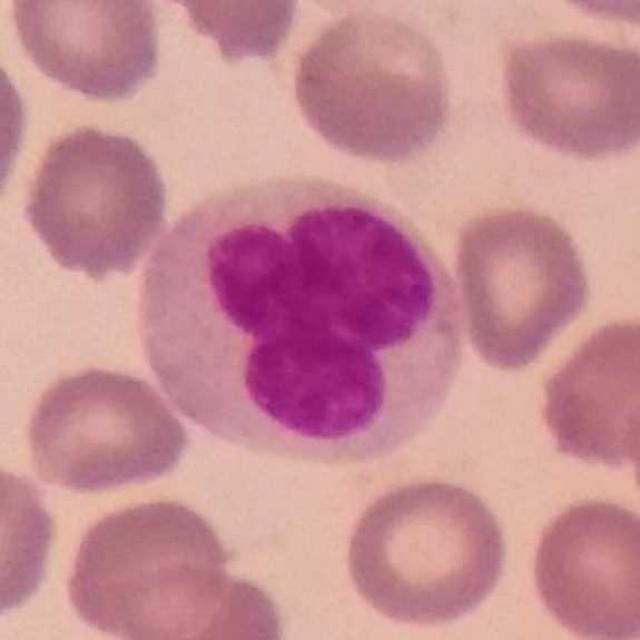mono: (137, 173, 475, 469)
